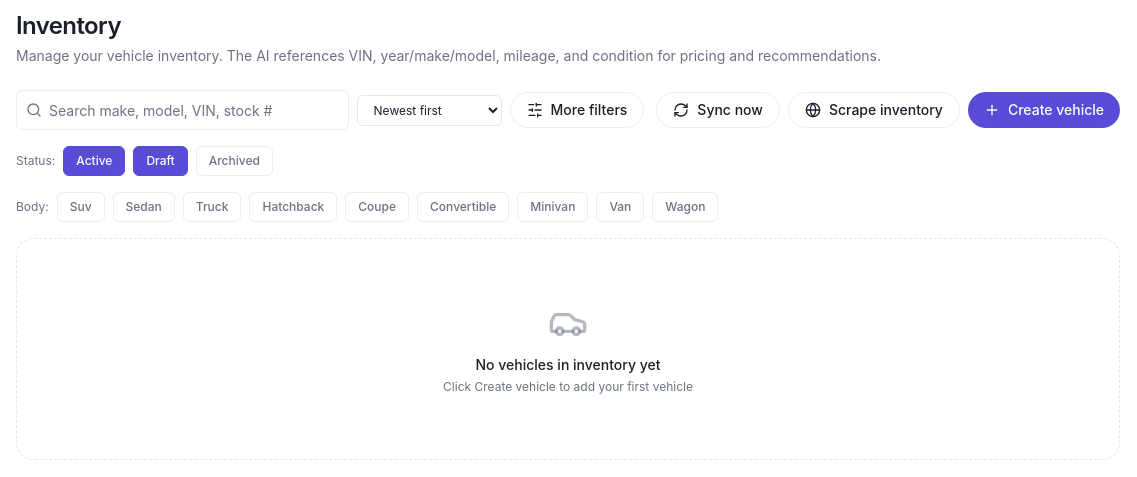
Test case: KAN-1217 Scenario 8 — archived row affordance › does not render an Archive button on archived rows but Edit remains
This screenshot has width=1137, height=477.
Click the button "Archived". click: (234, 161)
box: x1=196 y1=146 x2=273 y2=176
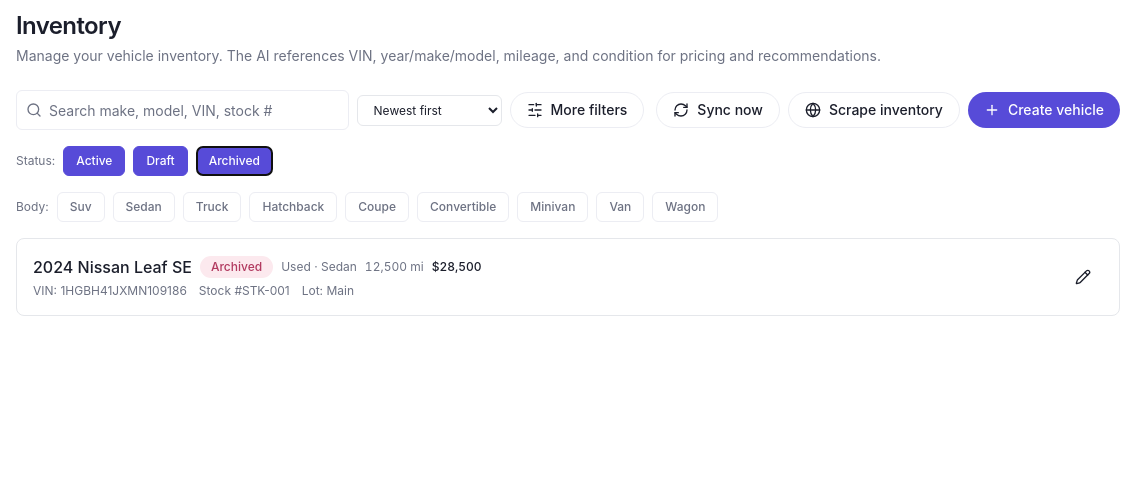
expect the text "2024 Nissan Leaf SE" is shown: met, box x1=33 y1=255 x2=192 y2=279
expect the button named "edit 2024 nissan leaf" is shown: met, box x1=1063 y1=257 x2=1103 y2=297
